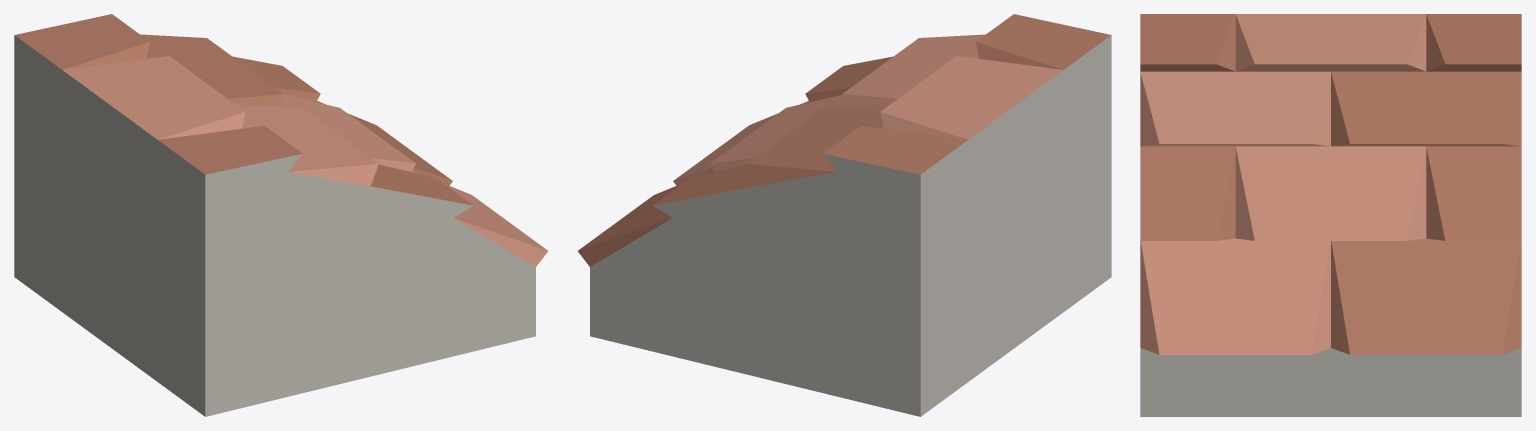
The model's file is Roof_Convex_Side.glb.
3 renders of one model, left to right at view 1: azimuth 30°, elevation 25°; view 2: azimuth 150°, elevation 25°; view 3: azimuth 270°, elevation 25°, orthographic.
Parts seen in each view (by area): view 1: object1; view 2: object1; view 3: object1.
Part boxes in pixels (bbox=[...]): object1: bbox=[14, 14, 547, 416]; object1: bbox=[578, 14, 1111, 416]; object1: bbox=[1140, 14, 1521, 416].
Bounding box in the file's own units: 1.07 × 0.7 × 1.
